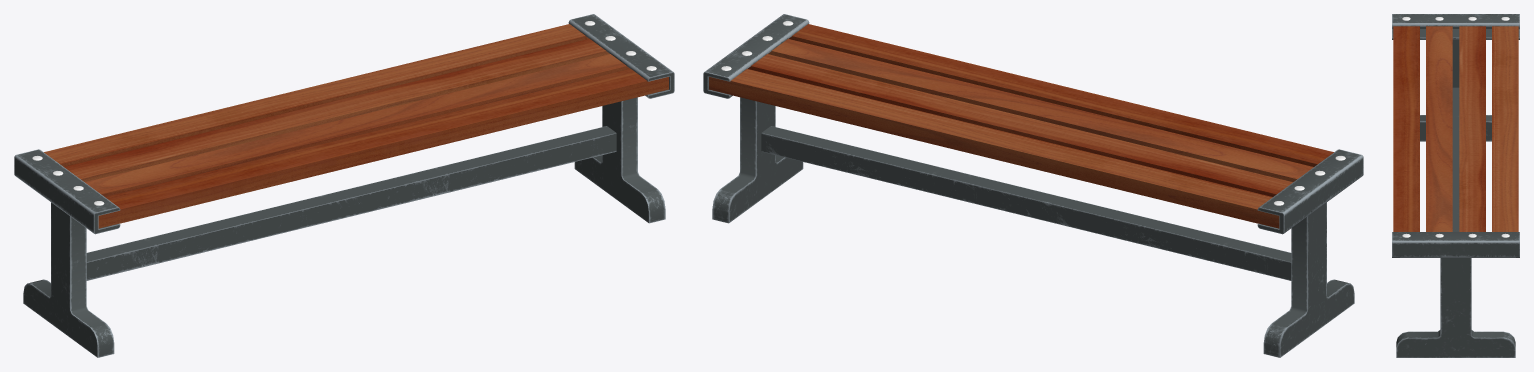
The model's file is bench.fbx.
3 views of the same model, side by side, from view 1: azimuth 30°, elevation 25°; view 2: azimuth 150°, elevation 25°; view 3: azimuth 270°, elevation 25° (orthographic). The views are drawn at different scales.
Parts seen in each view (by area): view 1: bench; view 2: bench; view 3: bench.
Part boxes in pixels (x1,y1,x2,y2): bench: (14, 14, 674, 357); bench: (703, 14, 1363, 357); bench: (1392, 14, 1519, 357).
Size of the model in its own units: 173 by 42.29 by 41.
